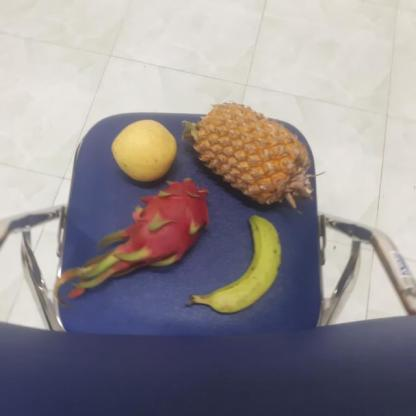banana: (186, 212, 283, 314)
pear: (107, 119, 178, 184)
pineapple: (183, 99, 312, 211)
pitaya: (124, 177, 208, 270)
